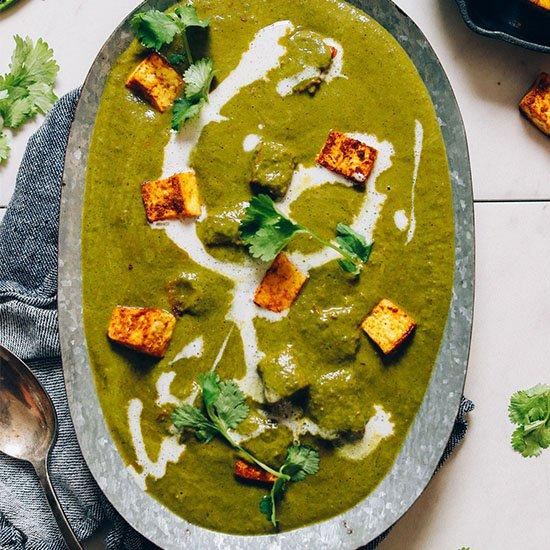Palak Paneer: (105, 0, 451, 539)
